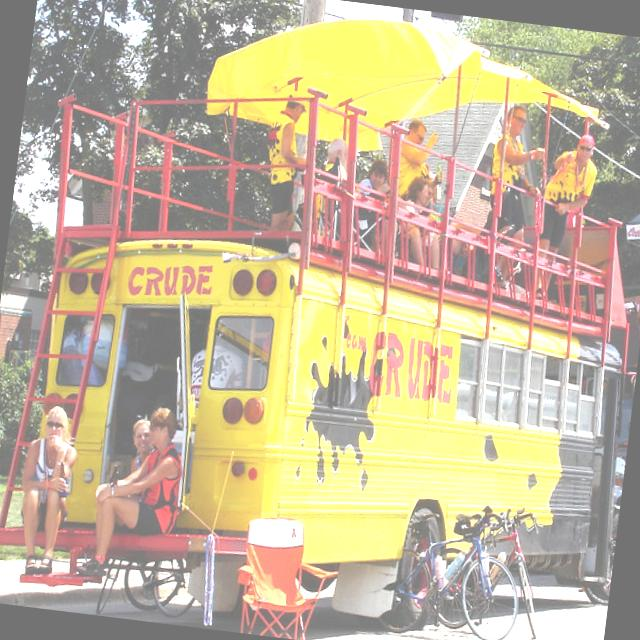Vehicle: (17, 220, 640, 640)
